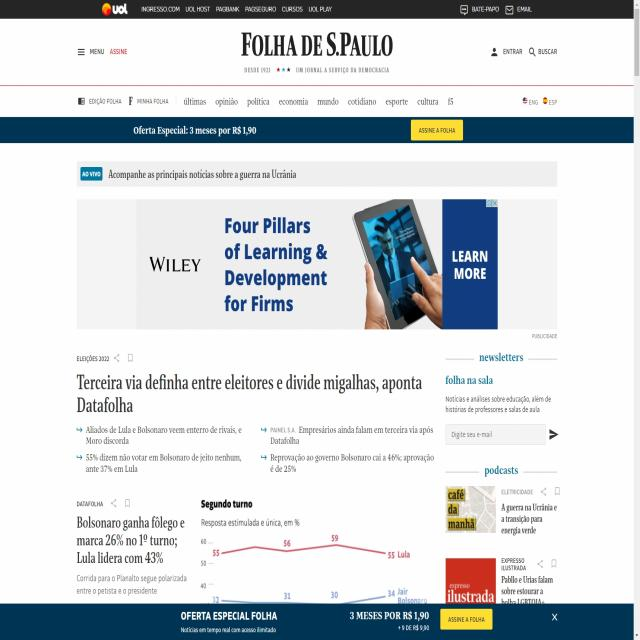menu-bar: (484, 37, 562, 63), (74, 37, 132, 63)
menu-panel: (74, 85, 465, 115)
